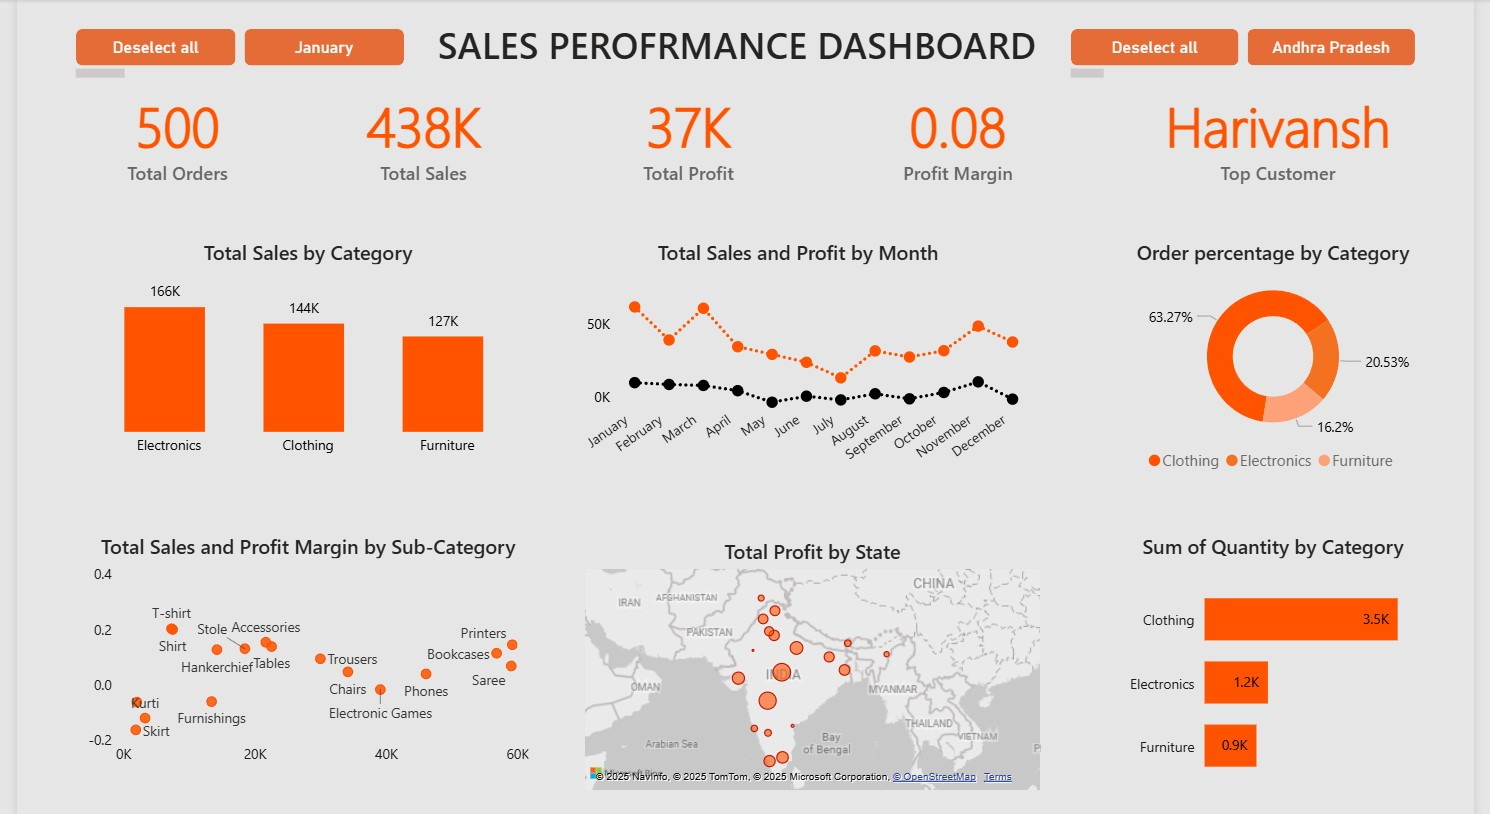

The page's visual inventory and layout, read from the dashboard file:
{"tool":"powerbi","page":{"name":"Page 1","canvas":[1280,720],"ordinal":0},"visuals":[{"type":"card","fields":{"Values":["Orders.Total Sales"]},"box":[245,72.9,223.9,100.1],"z":0},{"type":"card","fields":{"Values":["Details.Top Customer by Sales"]},"box":[997.5,72.9,219.5,100.1],"z":1000},{"type":"card","fields":{"Values":["Orders.Total Profit"]},"box":[480.3,72.9,218.6,100.1],"z":2000},{"type":"textbox","box":[364.4,12.3,550.5,60.6],"z":3000},{"type":"card","fields":{"Values":["Details.Total Orders"]},"box":[33.4,72.9,215.1,100.1],"z":4000},{"type":"card","fields":{"Values":["Orders.Profit Margin"]},"box":[714.7,72.9,223,100.1],"z":5000},{"type":"lineChart","title":"Total Sales and Profit by Month","fields":{"Y":["Orders.Total Sales","Details.Max Profit Point","Details.Max Point","Details.Min Profit Point","Details.Min Point","Orders.Total Profit"],"Category":["Orders.OrderDate.Variation.Date Hierarchy.Month"]},"box":[479.9,209.7,410.9,214.4],"z":6000},{"type":"columnChart","fields":{"Category":["Details.Category"],"Y":["Orders.Total Sales"]},"box":[40.4,209.9,430.2,200.2],"z":7000},{"type":"map","fields":{"Category":["Orders.State"],"Size":["Orders.Total Profit"]},"box":[493.5,459.2,410,240.2],"z":8000},{"type":"scatterChart","fields":{"X":["Orders.Total Sales"],"Y":["Orders.Profit Margin"],"Category":["Details.Sub-Category"]},"box":[57.2,459.2,387.1,221.7],"z":9000},{"type":"barChart","fields":{"Category":["Details.Category"],"Y":["Details.Quantity"]},"box":[966.8,459.2,271.8,244.6],"z":10000},{"type":"donutChart","title":" Order percentage by Category","fields":{"Series":["Details.Category"],"Y":["Details.Order ID"]},"box":[959.7,209.9,286.2,214.2],"z":11000},{"type":"advancedSlicerVisual","fields":{"Values":["Orders.OrderDate.Variation.Date Hierarchy.Month"]},"box":[25.5,21.1,292.1,55.4],"z":12000},{"type":"advancedSlicerVisual","fields":{"Values":["Orders.State"]},"box":[952.7,21.1,300,55.4],"z":13000}]}

Visuals, with their boxes in screenshot pixels (x1, y1, x2, y2), scaled from the page's 1280x720 canvas onto the 1490x814 screenshot:
card - Orders.Total Sales: [x1=285, y1=82, x2=546, y2=196]
card - Details.Top Customer by Sales: [x1=1161, y1=82, x2=1417, y2=196]
card - Orders.Total Profit: [x1=559, y1=82, x2=814, y2=196]
textbox: [x1=424, y1=14, x2=1065, y2=82]
card - Details.Total Orders: [x1=39, y1=82, x2=289, y2=196]
card - Orders.Profit Margin: [x1=832, y1=82, x2=1092, y2=196]
"Total Sales and Profit by Month" lineChart: [x1=559, y1=237, x2=1037, y2=479]
columnChart - Details.Category x Orders.Total Sales: [x1=47, y1=237, x2=548, y2=464]
map - Orders.State x Orders.Total Profit: [x1=574, y1=519, x2=1052, y2=791]
scatterChart - Orders.Total Sales x Orders.Profit Margin: [x1=67, y1=519, x2=517, y2=770]
barChart - Details.Category x Details.Quantity: [x1=1125, y1=519, x2=1442, y2=796]
" Order percentage by Category" donutChart: [x1=1117, y1=237, x2=1450, y2=479]
advancedSlicerVisual - Orders.OrderDate.Variation.Date Hierarchy.Month: [x1=30, y1=24, x2=370, y2=86]
advancedSlicerVisual - Orders.State: [x1=1109, y1=24, x2=1458, y2=86]
